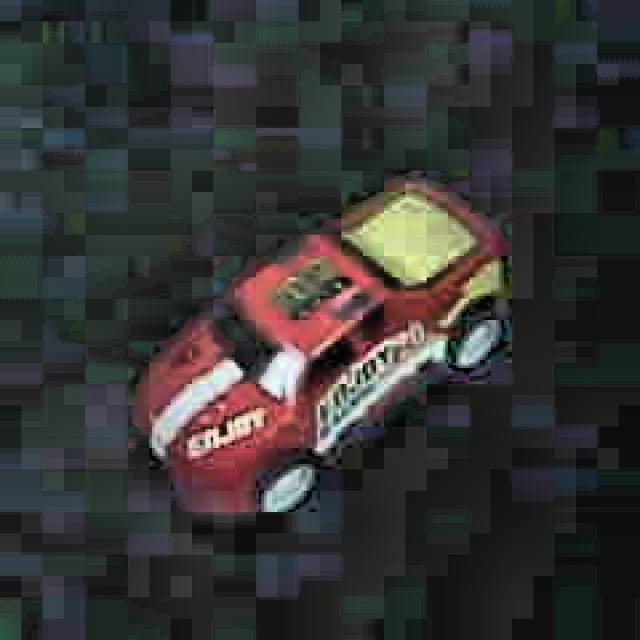car: (128, 168, 511, 530)
